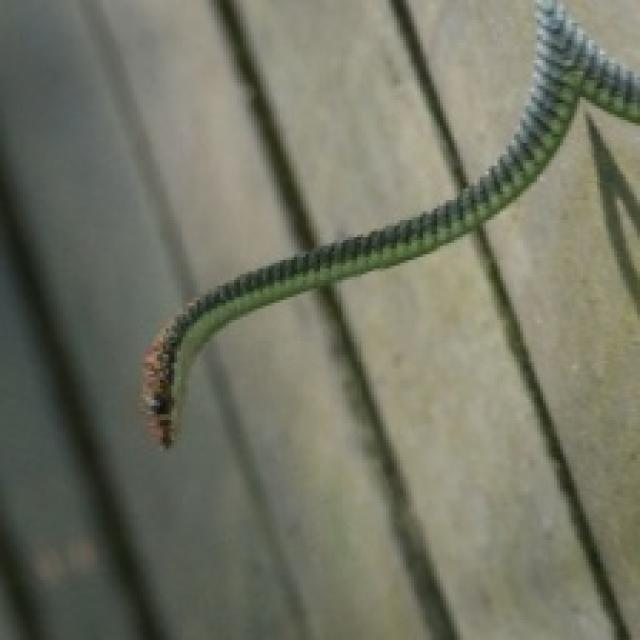paradise tree snake: (143, 0, 637, 446)
